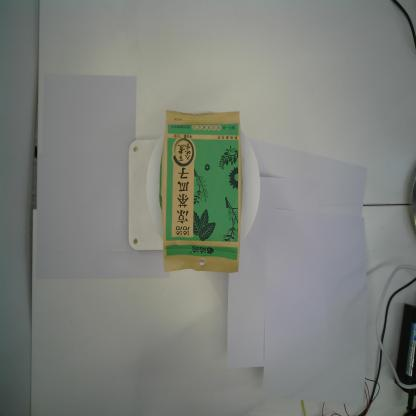Dried Food: (157, 109, 244, 275)
